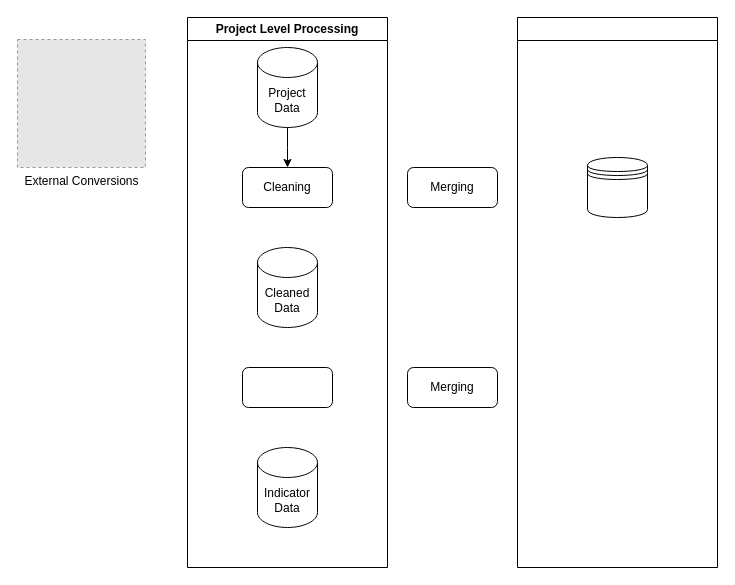
Some shapes in this 735 by 585 pixel diagram are drawn without their labels. Grey dashed boxes stand in for pictures. The box of each missing label's shape, as (x1, y1, x2, y2) in pixels:
Indicator Calculations: (242, 366, 332, 408)
Merged Outputs: (516, 16, 718, 568)
